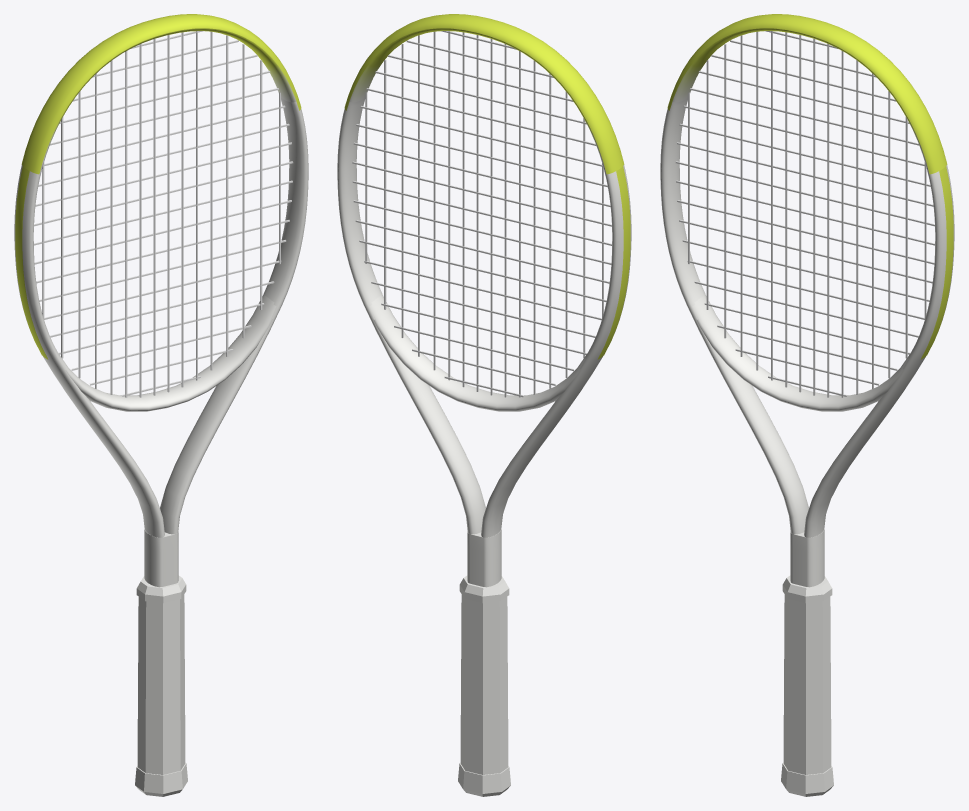
The model's file is tecnifibre-tf-x1-300-v2.glb.
3 views of the same model, side by side, from view 1: azimuth 30°, elevation 25°; view 2: azimuth 150°, elevation 25°; view 3: azimuth 330°, elevation 25° (orthographic).
Parts seen in each view (by area): view 1: frame, strings_mains, strings_crosses, grip, bumper, grommets, butt_cap, collar; view 2: frame, strings_mains, strings_crosses, grip, bumper, grommets, butt_cap, collar; view 3: frame, strings_mains, strings_crosses, grip, bumper, grommets, butt_cap, collar.
Part boxes in pixels (box(x1,y1,x2,y2)): frame: box(14, 28, 308, 587); strings_mains: box(42, 31, 280, 397); strings_crosses: box(34, 31, 293, 396); grip: box(137, 594, 185, 774); bumper: box(21, 14, 301, 174); grommets: box(15, 166, 48, 359); butt_cap: box(135, 762, 187, 796); collar: box(136, 575, 186, 603); frame: box(337, 28, 631, 587); strings_mains: box(365, 31, 603, 397); strings_crosses: box(352, 31, 611, 397); grip: box(460, 594, 508, 774); bumper: box(344, 14, 624, 174); grommets: box(597, 166, 630, 359); butt_cap: box(458, 762, 510, 796); collar: box(459, 575, 509, 603); frame: box(660, 28, 954, 587); strings_mains: box(688, 31, 926, 397); strings_crosses: box(675, 31, 934, 396); grip: box(783, 594, 831, 774); bumper: box(667, 14, 947, 174); grommets: box(920, 166, 953, 359); butt_cap: box(781, 762, 833, 796); collar: box(782, 575, 832, 603).
Size of the model in its own units: 0.2687 by 0.6861 by 0.0378.
